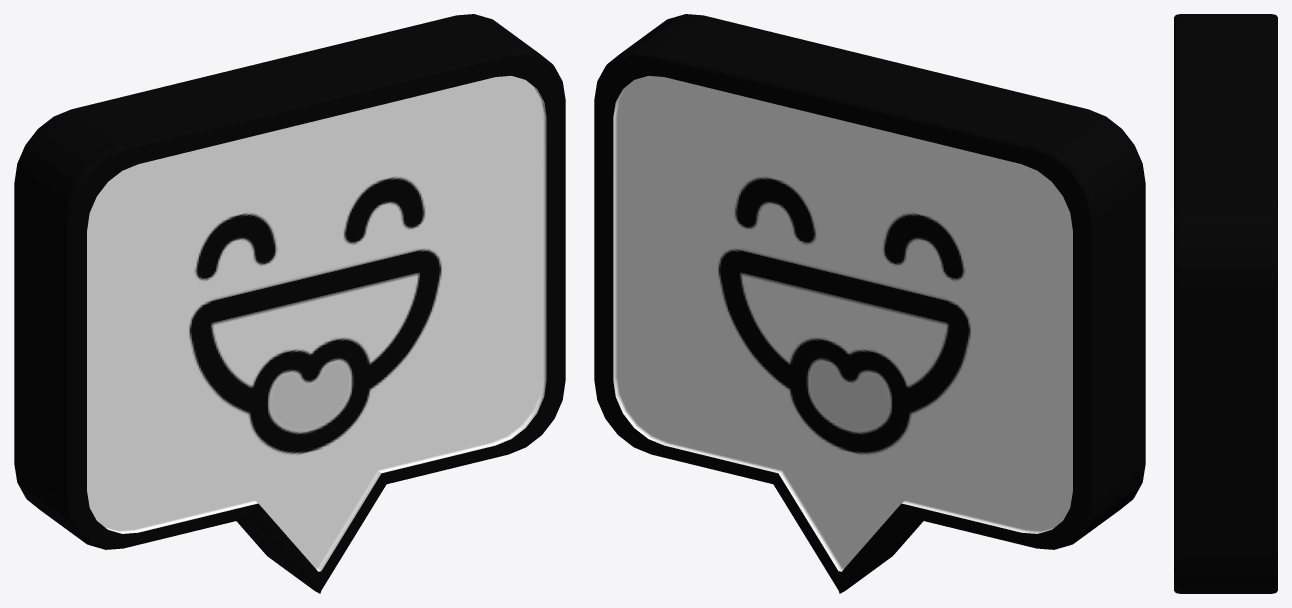
File: HeHe_v2.fbx
3 renders of one model, left to right at view 1: azimuth 30°, elevation 25°; view 2: azimuth 150°, elevation 25°; view 3: azimuth 270°, elevation 25°, orthographic. The views are drawn at different scales.
Parts seen in each view (by area): view 1: hehe; view 2: hehe; view 3: hehe.
Boxes of the visible parts, box(x1,y1,x2,y2) form: hehe: box(14, 14, 565, 593); hehe: box(594, 14, 1145, 593); hehe: box(1174, 14, 1277, 593).
Bounding box in the file's own units: 1.87 × 1.77 × 0.3496.
1 material, 1 textured.
